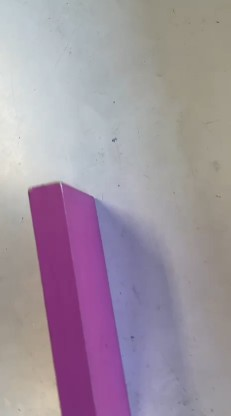pink: (27, 162, 121, 416)
